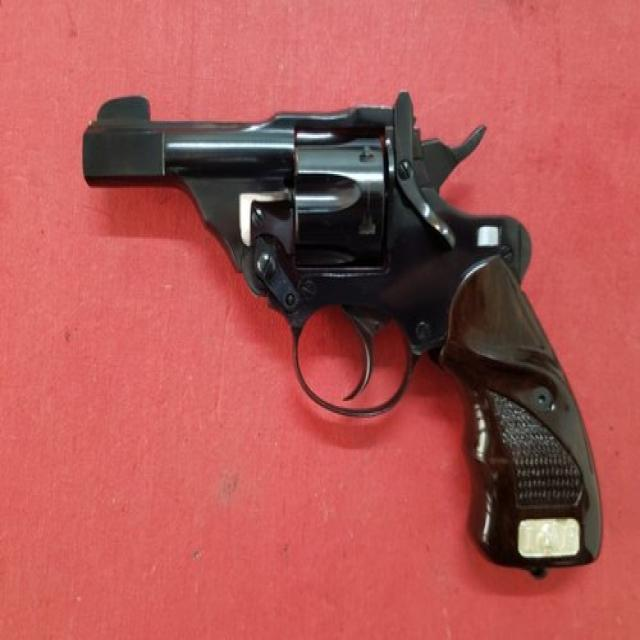handgun: (81, 90, 604, 561)
